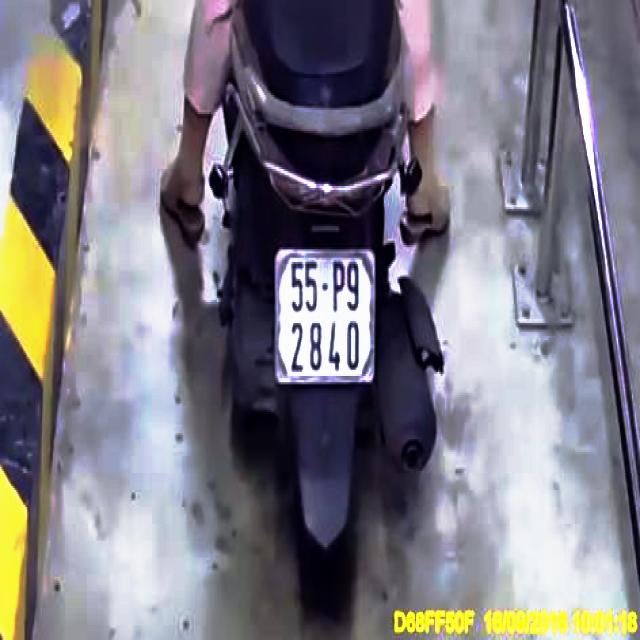license_plate: (277, 249, 378, 383)
